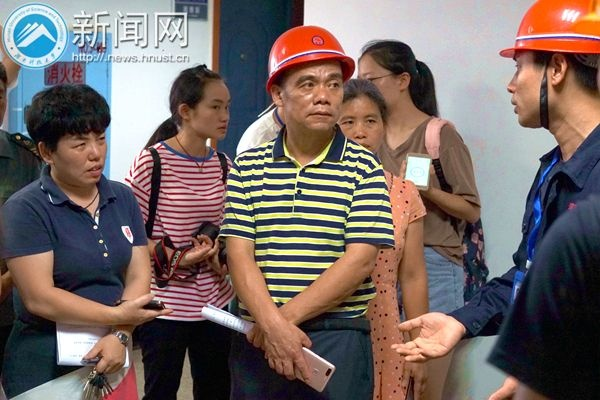none: (21, 76, 116, 188), (166, 62, 236, 146), (353, 39, 415, 111), (335, 80, 386, 156)
yellow: (503, 3, 600, 139), (262, 20, 352, 133)
